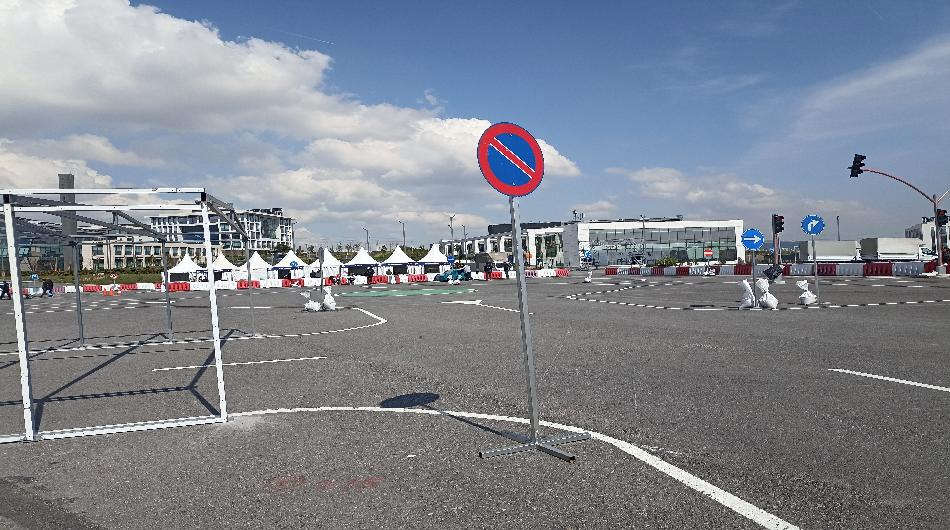park_yapilmaz_1: (478, 122, 550, 200)
saga_mecburi_1: (741, 227, 766, 253)
